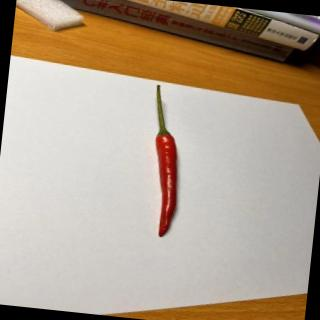Cabai Merah: (141, 85, 189, 239)
